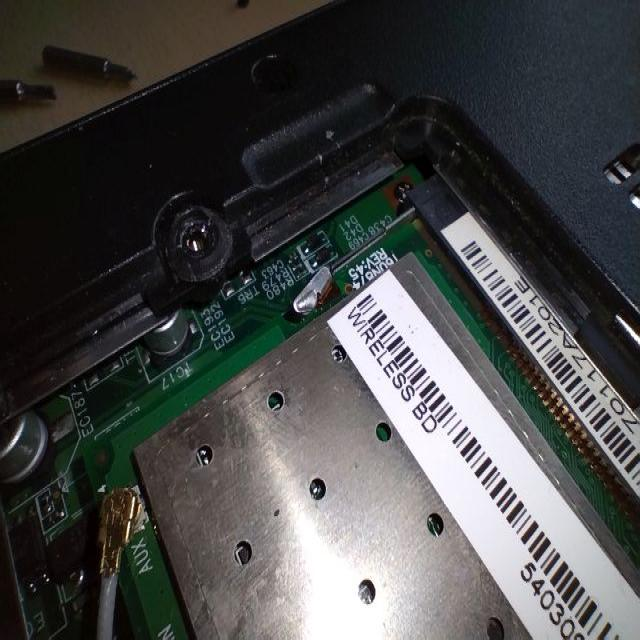resistor: (282, 254, 300, 268), (292, 265, 306, 280)
